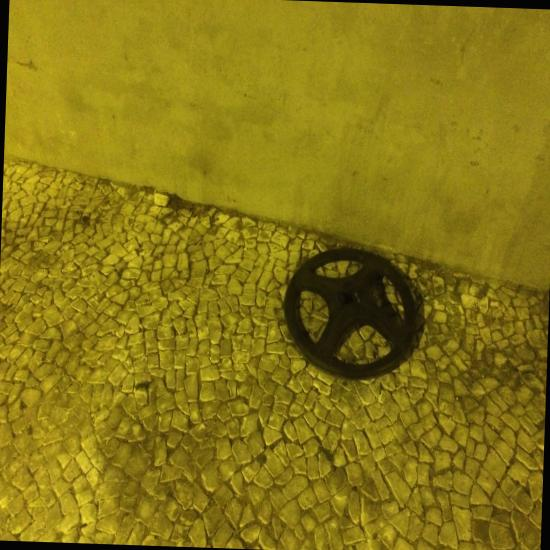Cigarette: (139, 324, 143, 329)
Other plastic bottle: (284, 247, 416, 380)
